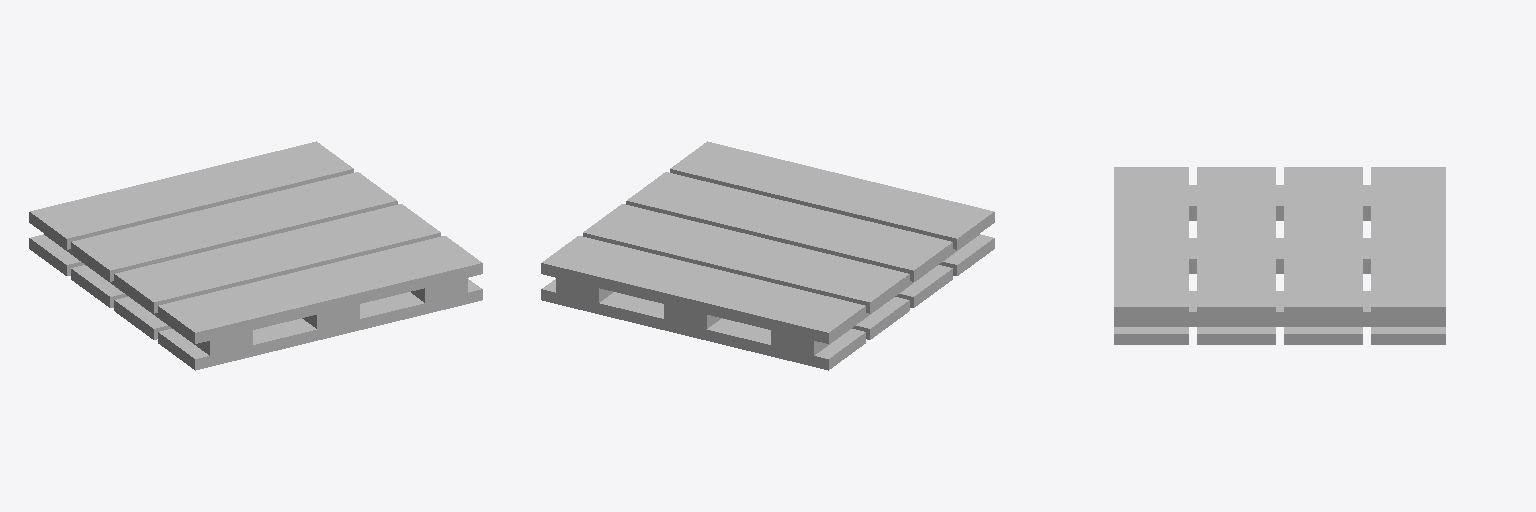
Rendered from Pallet_Large.obj.
The picture shows the model from 3 angles: view 1: azimuth 30°, elevation 25°; view 2: azimuth 150°, elevation 25°; view 3: azimuth 270°, elevation 25°; orthographic projection.
Visible parts, largest first — view 1: Pallet_Large_Cube.024; view 2: Pallet_Large_Cube.024; view 3: Pallet_Large_Cube.024.
Boxes of the visible parts, x1,y1,x2,y2 form: Pallet_Large_Cube.024: [29, 141, 482, 370]; Pallet_Large_Cube.024: [541, 141, 994, 370]; Pallet_Large_Cube.024: [1114, 167, 1445, 344].
Bounding box in the file's own units: 4 × 0.5 × 4.